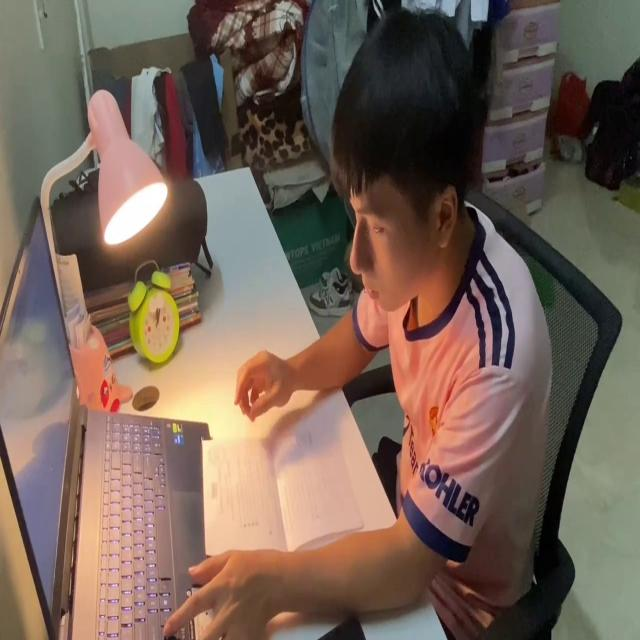book: (188, 422, 362, 564)
laptop: (0, 190, 234, 640)
student: (163, 0, 556, 640)
